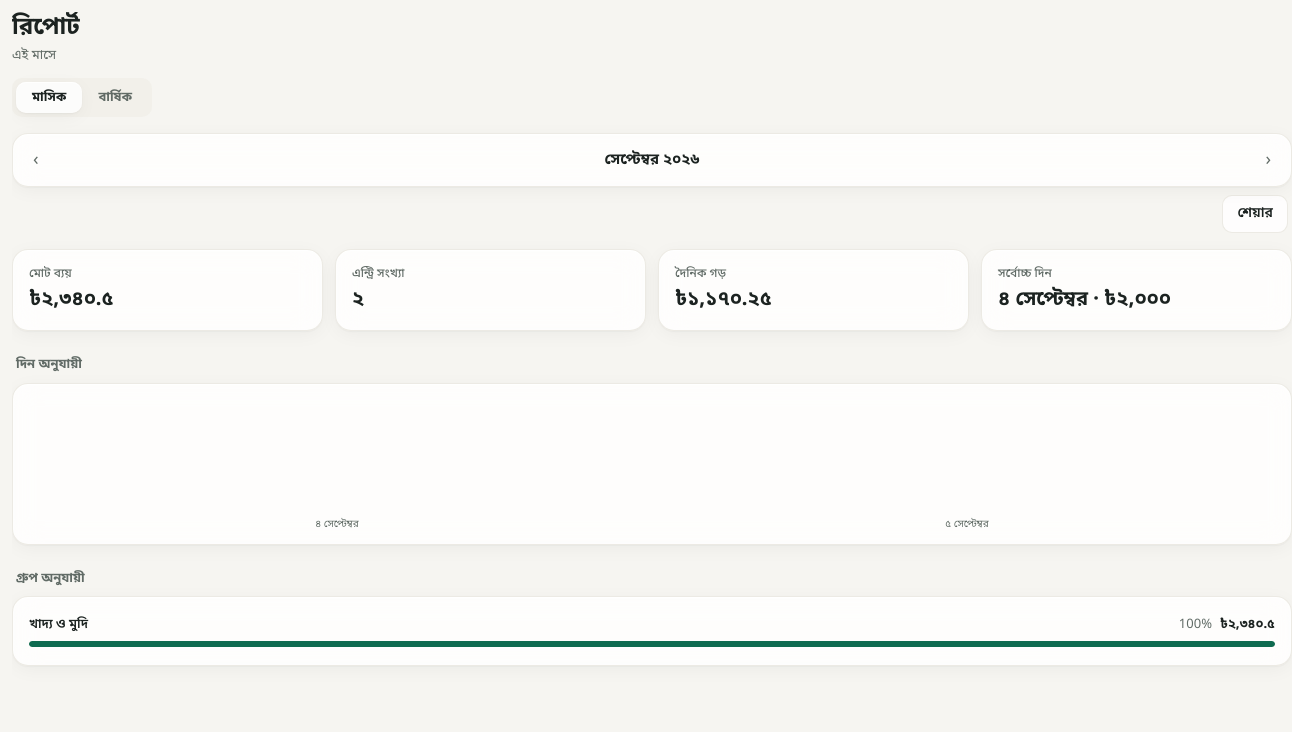
Report screen › switches to the yearly report: KPIs, monthly trend, and by-group shares
Expected: the heading "দিন অনুযায়ী" is shown, [16,356,82,373]
Click the button "বার্ষিক". click: point(115, 97)
box: [82,82,148,113]
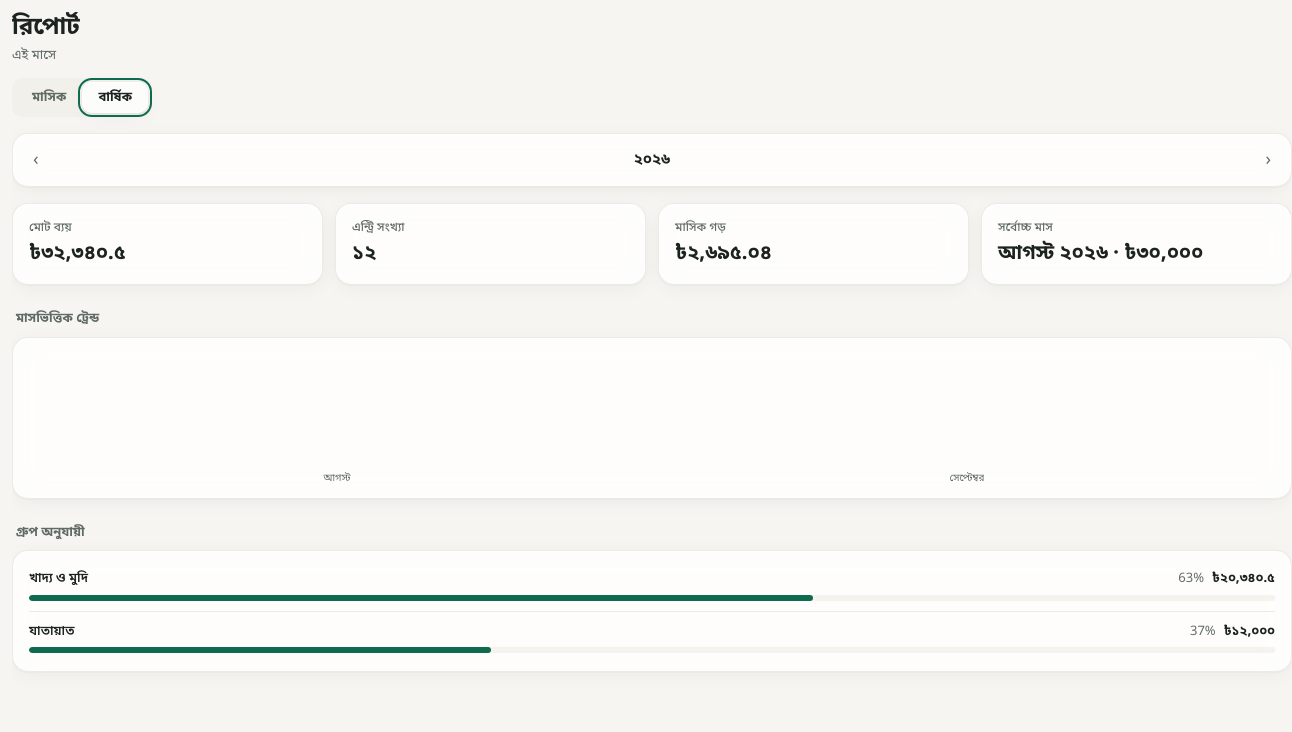
Now the heading "মাসভিত্তিক ট্রেন্ড" is shown, box [16,310,99,327]
Now the text "৳৩২,৩৪০.৫" is shown, box [29,241,126,267]
Now the text "১২" is shown, box [352,241,376,267]
